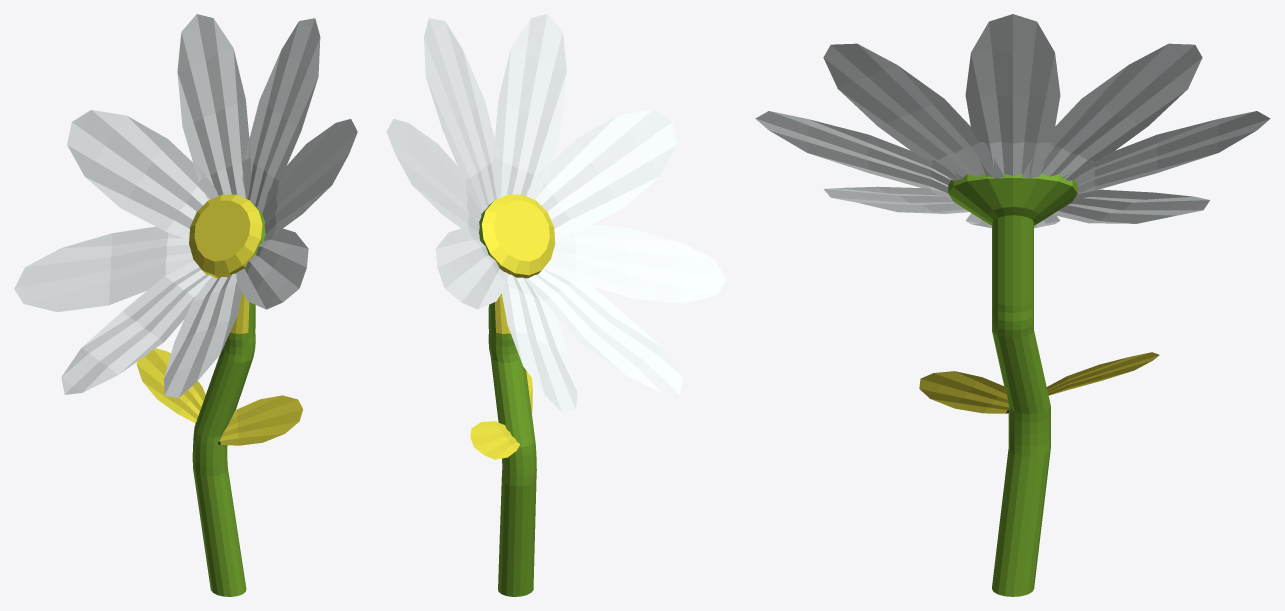
File: flower_2.fbx
3 renders of one model, left to right at view 1: azimuth 30°, elevation 25°; view 2: azimuth 150°, elevation 25°; view 3: azimuth 270°, elevation 25°, orthographic. The views are drawn at different scales.
Parts seen in each view (by area): view 1: Circle, flower_1; view 2: Circle, flower_1; view 3: Circle, flower_1.
Part boxes in pixels (<box>): Circle: <box>14,14,357,445</box>; flower_1: <box>189,194,265,596</box>; Circle: <box>386,14,726,459</box>; flower_1: <box>479,194,555,596</box>; Circle: <box>755,14,1270,413</box>; flower_1: <box>948,174,1077,596</box>.
Bounding box in the file's own units: 507 × 1063 × 798.
